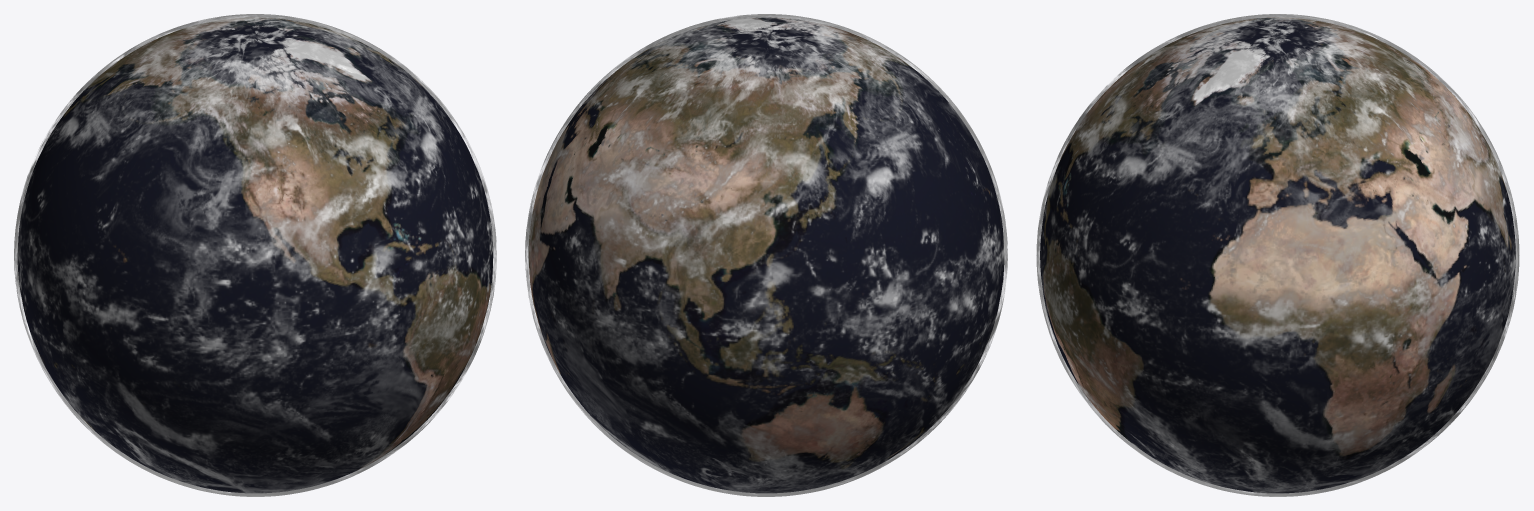
The model's file is earth.glb.
The picture shows the model from 3 angles, left to right: view 1: azimuth 30°, elevation 25°; view 2: azimuth 150°, elevation 25°; view 3: azimuth 270°, elevation 25°; orthographic projection.
Parts seen in each view (by area): view 1: Earth_0, Clouds_1; view 2: Earth_0, Clouds_1; view 3: Earth_0, Clouds_1.
Boxes of the visible parts, x1,y1,x2,y2 form: Earth_0: [17, 17, 493, 492]; Clouds_1: [14, 14, 496, 496]; Earth_0: [529, 17, 1004, 493]; Clouds_1: [525, 14, 1007, 496]; Earth_0: [1040, 17, 1515, 493]; Clouds_1: [1036, 14, 1519, 496].
Bounding box in the file's own units: 1.64 × 1.64 × 1.64.
Materials: 2 (2 with a texture image).
